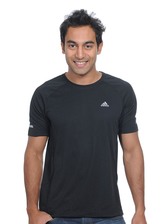clothoes: (25, 72, 139, 217)
